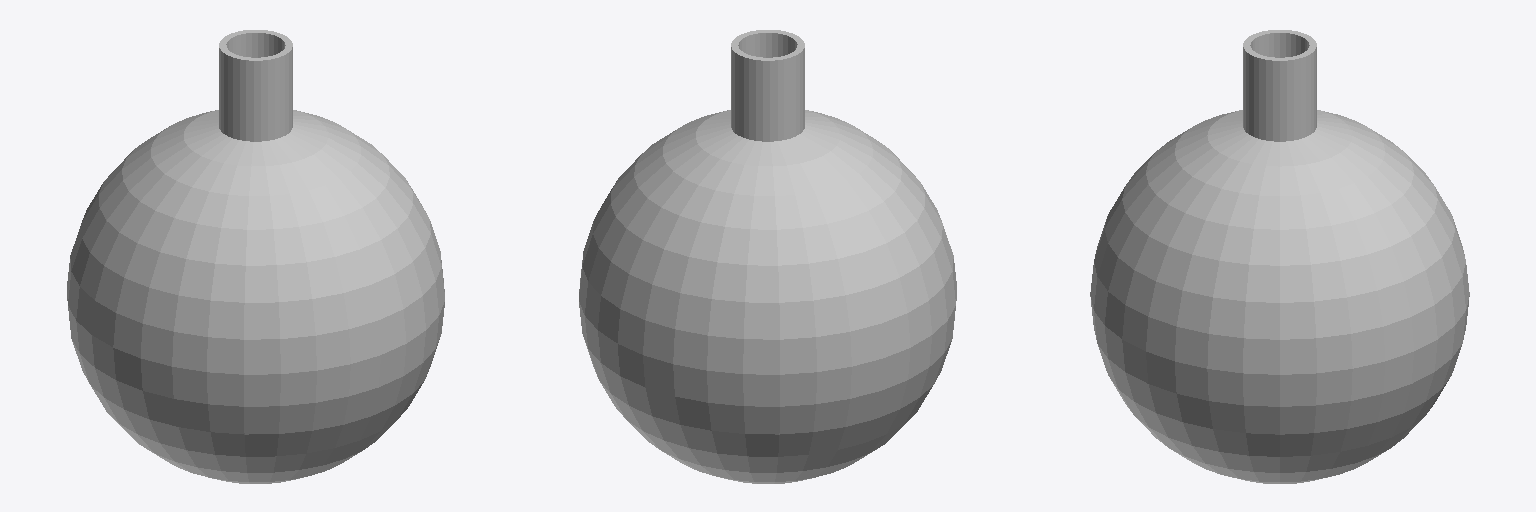
The model's file is cannon.obj.
3 renders of one model, left to right at view 1: azimuth 30°, elevation 25°; view 2: azimuth 150°, elevation 25°; view 3: azimuth 270°, elevation 25°, orthographic.
Visible parts, largest first — view 1: Sphere; view 2: Sphere; view 3: Sphere.
Part boxes in pixels (x1,y1,x2,y2): Sphere: (67, 30, 444, 483); Sphere: (579, 30, 956, 483); Sphere: (1090, 30, 1469, 483).
Size of the model in its own units: 2 by 2.45 by 2.